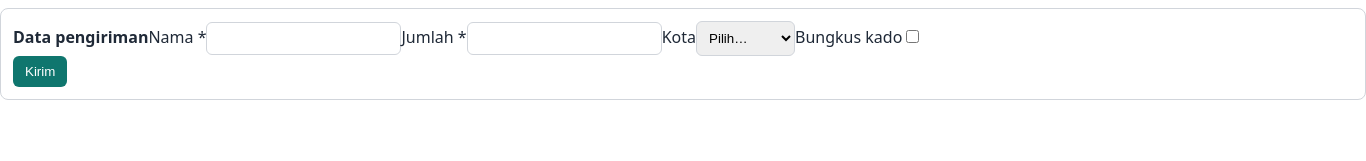
ChatWidget form › shows the server error when the submission is refused
This screenshot has width=1366, height=161.
Click the button "Kirim".
click(40, 72)  # box 13,56 -> 67,87
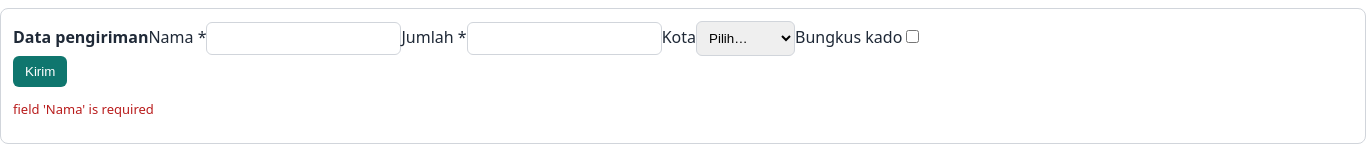
Check: the message reads "field 'Nama' is required", box 13,100 -> 154,118
